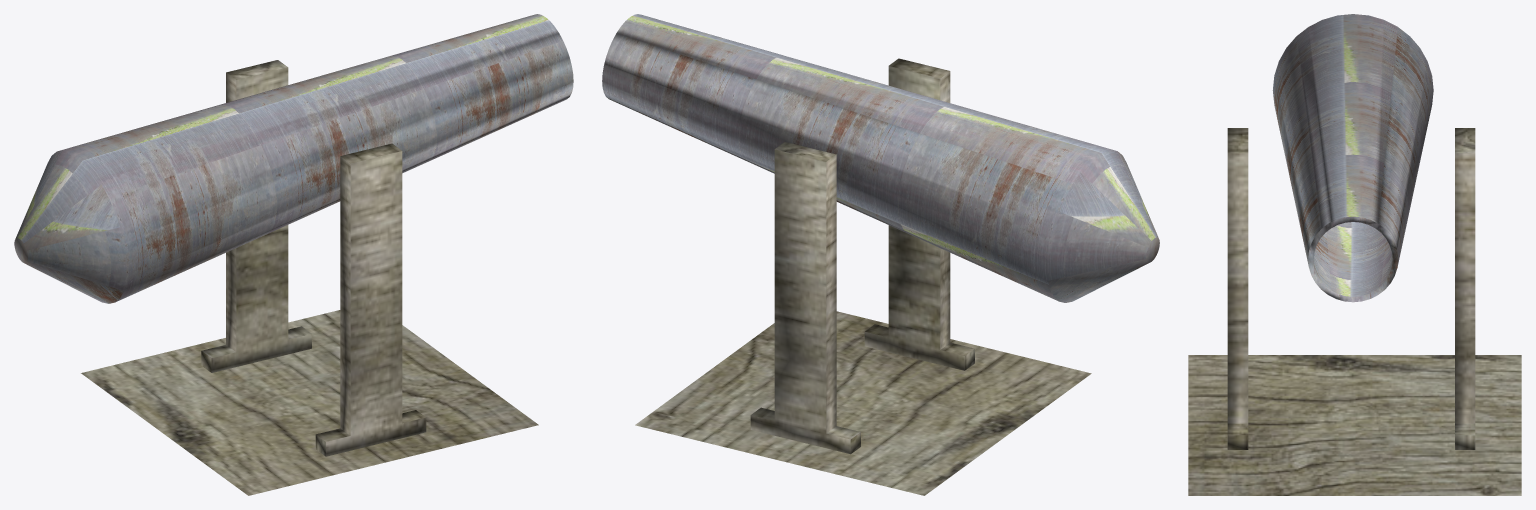
The model's file is Kanone_ganz.fbx.
3 views of the same model, side by side, from view 1: azimuth 30°, elevation 25°; view 2: azimuth 150°, elevation 25°; view 3: azimuth 270°, elevation 25° (orthographic).
Visible parts, largest first — view 1: Kanone, Halterung; view 2: Kanone, Halterung; view 3: Halterung, Kanone.
Part boxes in pixels (box(x1,y1,x2,y2)): Kanone: box(14, 14, 573, 303); Halterung: box(81, 60, 538, 495); Kanone: box(602, 14, 1159, 302); Halterung: box(635, 58, 1091, 495); Halterung: box(1188, 128, 1521, 495); Kanone: box(1272, 14, 1433, 302).
Bounding box in the file's own units: 7.63 × 4.43 × 4.14.
Materials: 2 (2 with a texture image).
